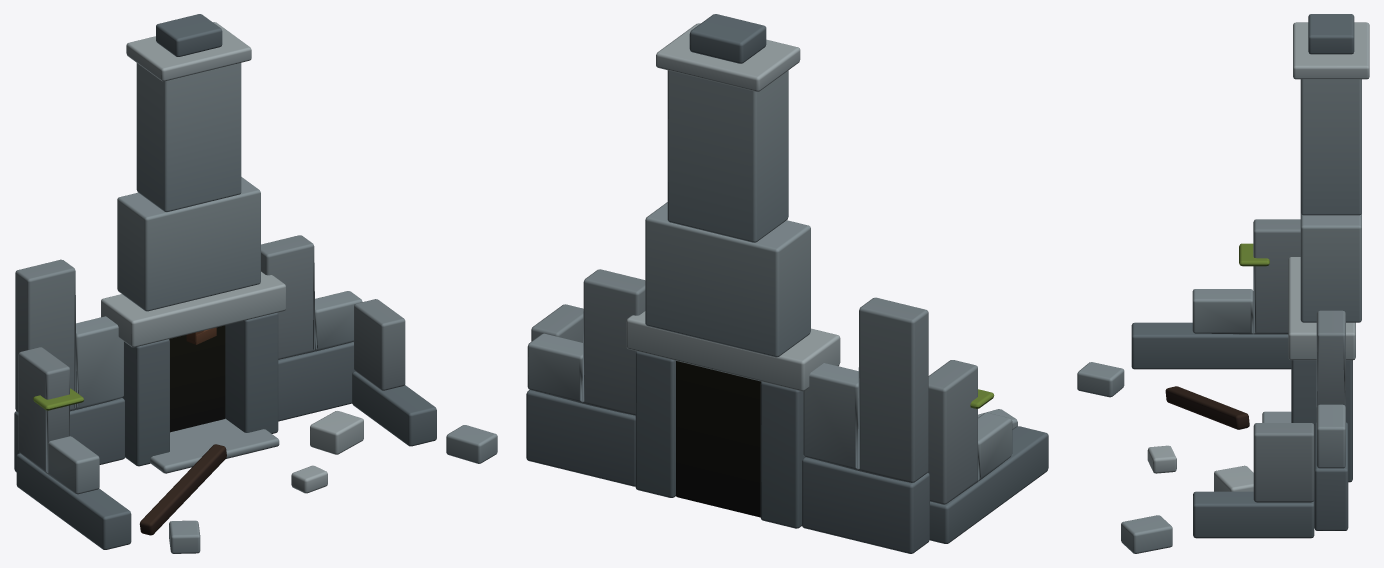
Rendered from ruin_hearth.glb.
The picture shows the model from 3 angles, left to right: view 1: azimuth 30°, elevation 25°; view 2: azimuth 150°, elevation 25°; view 3: azimuth 270°, elevation 25°; orthographic projection. The views are drawn at different scales.
Visible parts, largest first — view 1: ruin_hearth; view 2: ruin_hearth; view 3: ruin_hearth.
Part boxes in pixels (x1,y1,x2,y2): ruin_hearth: [14, 14, 497, 553]; ruin_hearth: [526, 14, 1048, 553]; ruin_hearth: [1077, 14, 1369, 553].
Bounding box in the file's own units: 3.1 × 3.14 × 1.9.
